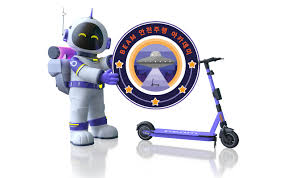kick_body: (156, 131, 212, 141)
kick_wheel: (220, 130, 239, 147), (136, 121, 152, 139)
